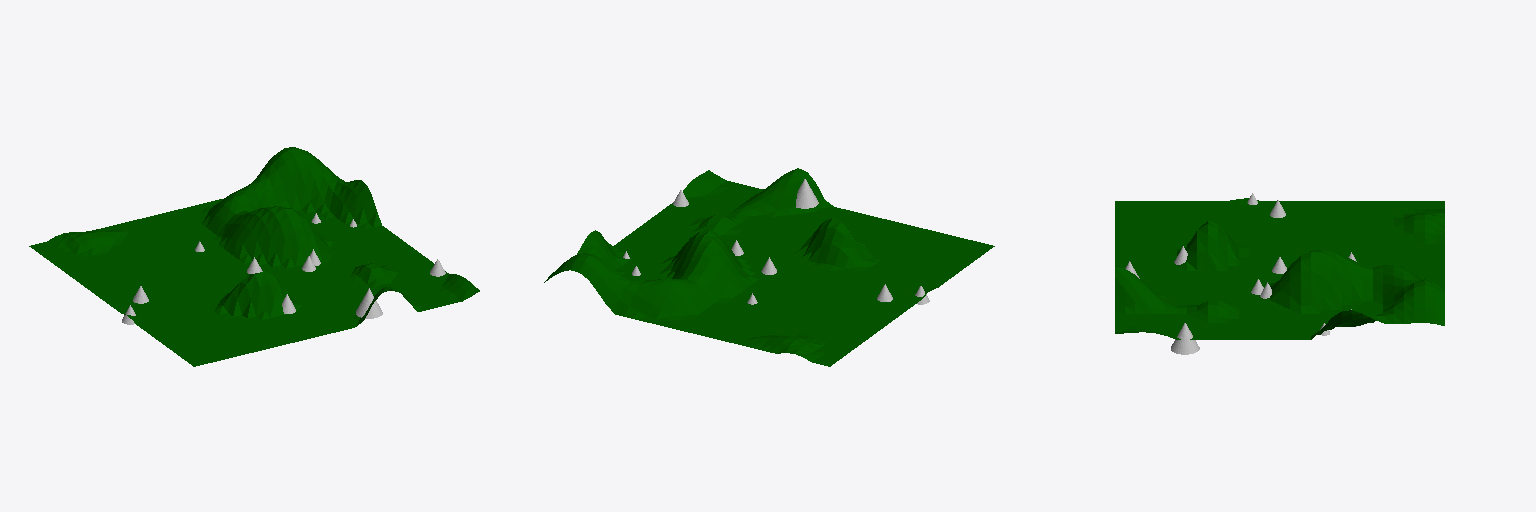
File: test_particle_terrain.obj
The picture shows the model from 3 angles: view 1: azimuth 30°, elevation 25°; view 2: azimuth 150°, elevation 25°; view 3: azimuth 270°, elevation 25°; orthographic projection.
Visible parts, largest first — view 1: Plane.001; view 2: Plane.001; view 3: Plane.001.
Boxes of the visible parts, x1=… form: Plane.001: x1=29, y1=147, x2=479, y2=366; Plane.001: x1=544, y1=168, x2=994, y2=366; Plane.001: x1=1115, y1=198, x2=1444, y2=339.
Bounding box in the file's own units: 51.36 × 9.17 × 50.